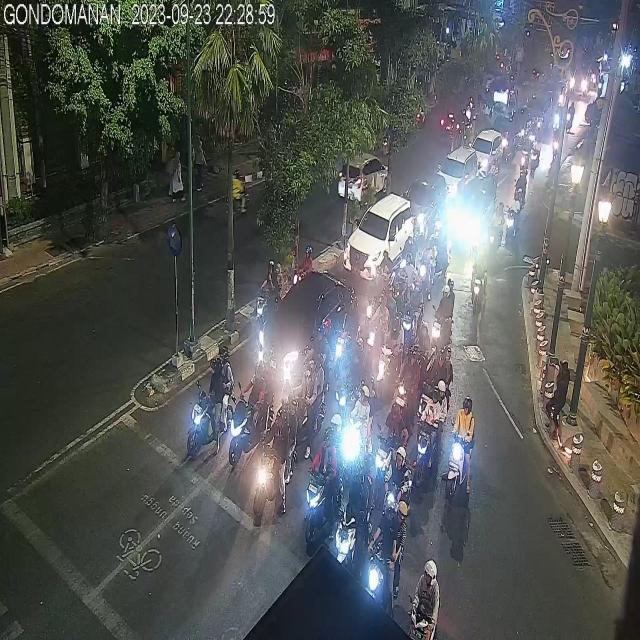car: (262, 273, 351, 376), (343, 194, 414, 277), (336, 150, 393, 206), (403, 177, 446, 231), (437, 141, 477, 190), (474, 129, 502, 170)
motorcycle: (225, 355, 274, 463), (187, 348, 233, 457), (257, 395, 296, 520), (301, 424, 342, 542), (366, 494, 405, 614), (333, 464, 371, 580), (415, 375, 448, 482), (288, 361, 324, 445), (371, 406, 400, 510), (448, 395, 477, 497), (409, 557, 442, 637), (383, 441, 413, 523), (258, 261, 284, 326), (433, 281, 453, 348)
